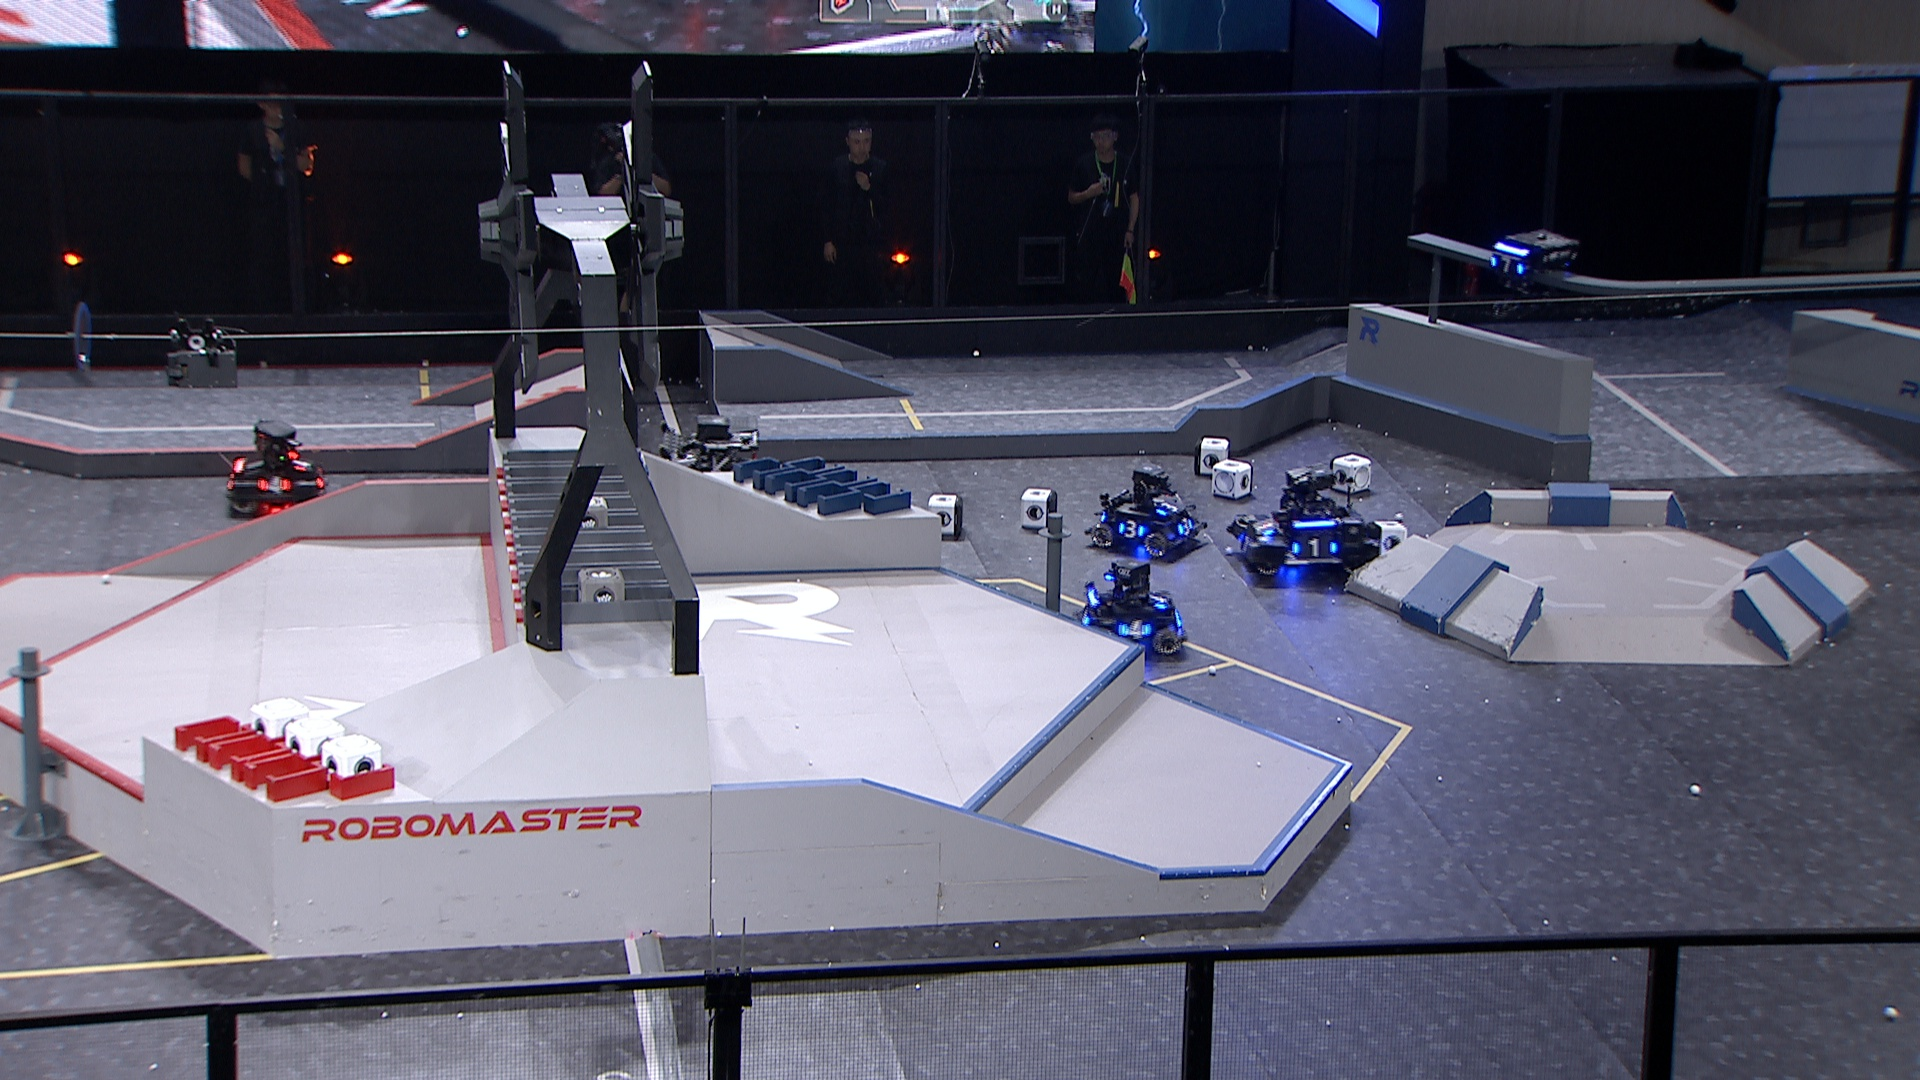armor: (1290, 535, 1338, 560), (1120, 618, 1154, 642), (1253, 514, 1280, 541), (1489, 256, 1522, 277), (257, 476, 291, 495), (1238, 531, 1259, 556), (1117, 520, 1145, 537), (1156, 498, 1178, 516), (1154, 585, 1166, 611), (294, 451, 311, 467), (1178, 516, 1193, 531), (1077, 608, 1091, 622)
car: (1236, 460, 1382, 595), (654, 406, 774, 524), (1069, 560, 1192, 662), (1087, 465, 1199, 564), (225, 417, 327, 520)
watcher: (1487, 229, 1580, 316)
